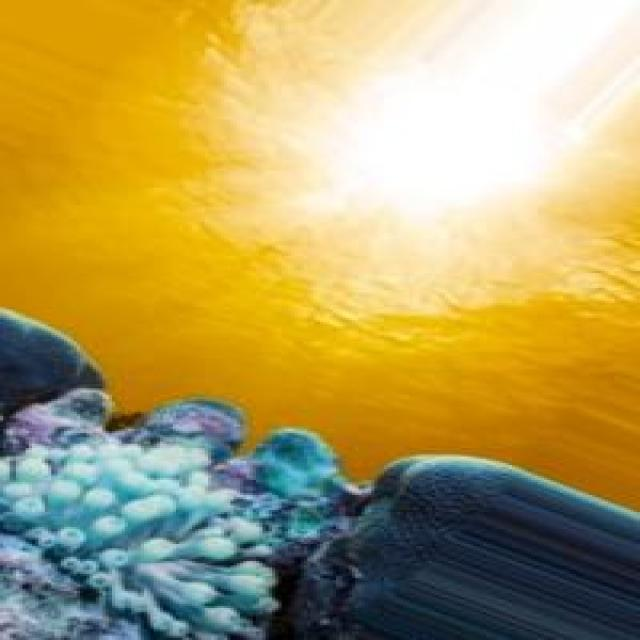Healthy: (1, 310, 414, 640)
